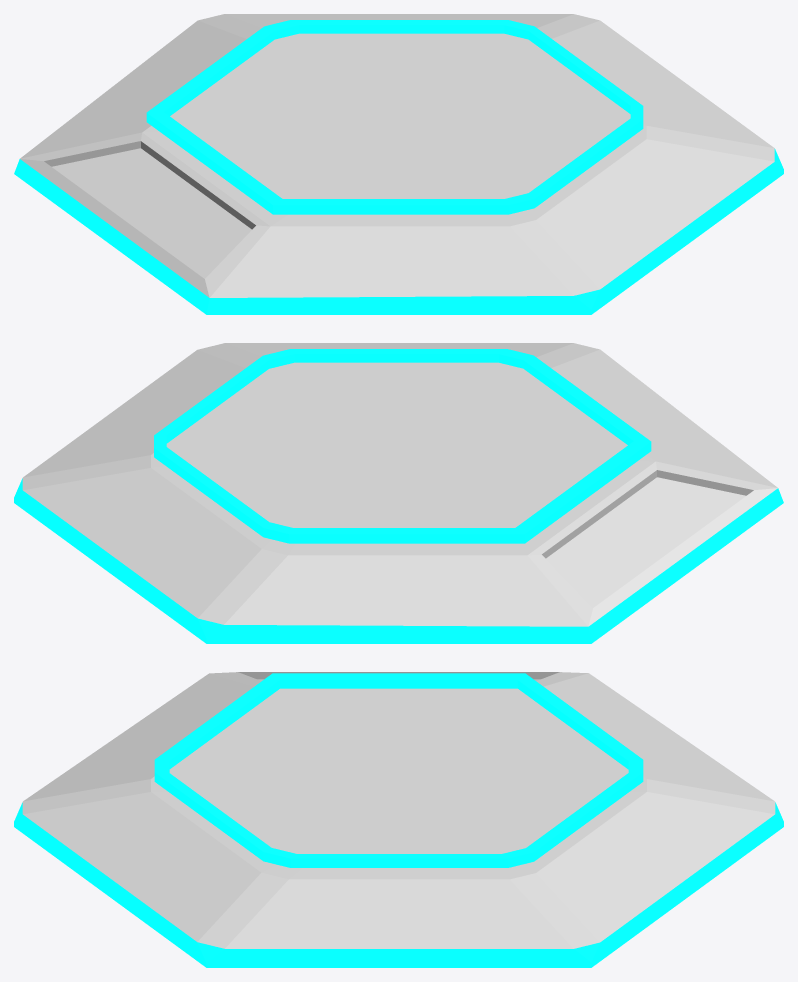
File: Weigts.fbx
3 renders of one model, top to bottom at view 1: azimuth 30°, elevation 25°; view 2: azimuth 150°, elevation 25°; view 3: azimuth 270°, elevation 25°, orthographic.
Parts seen in each view (by area): view 1: Cylinder; view 2: Cylinder; view 3: Cylinder.
Boxes of the visible parts, x1=… form: Cylinder: x1=14, y1=14, x2=783, y2=314; Cylinder: x1=14, y1=343, x2=783, y2=643; Cylinder: x1=14, y1=672, x2=783, y2=967.
Size of the model in its own units: 173 by 17.55 by 200.
